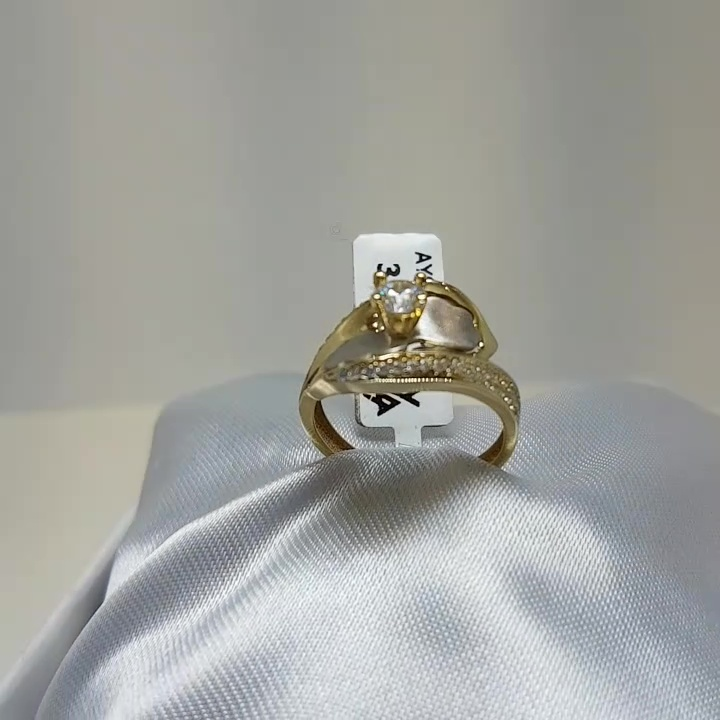Ring 6: (278, 256, 532, 493)
